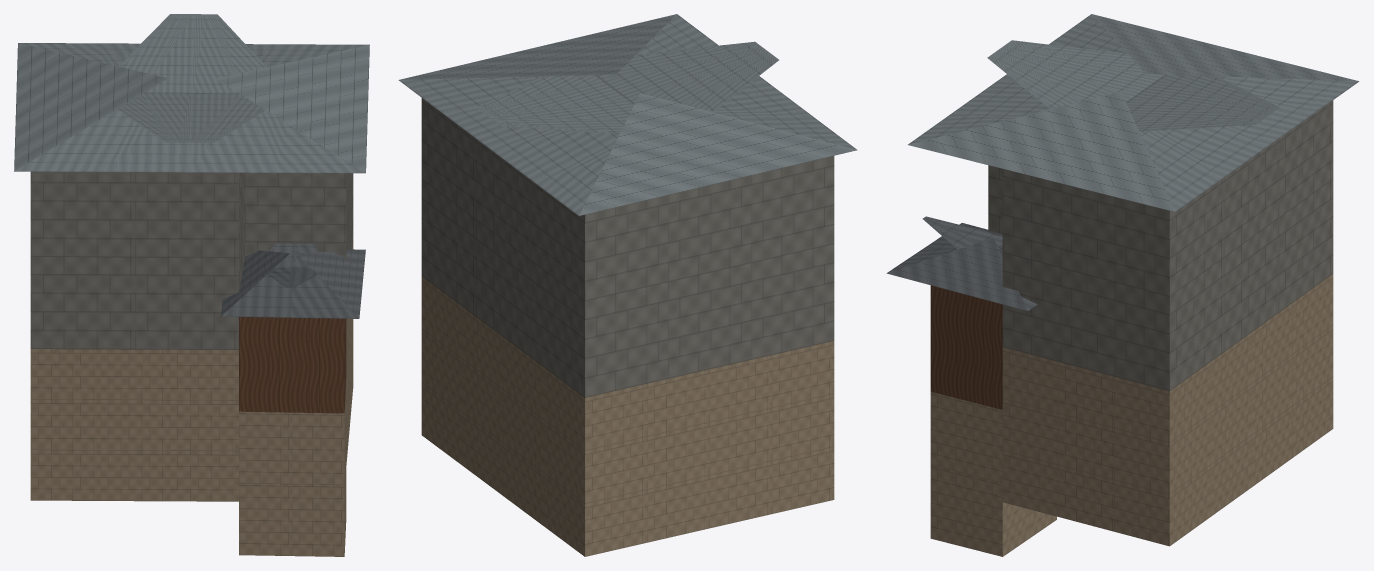
File: bld_c9_16_447.gltf
The picture shows the model from 3 angles, left to right: view 1: azimuth 30°, elevation 25°; view 2: azimuth 150°, elevation 25°; view 3: azimuth 270°, elevation 25°; orthographic projection. The views are drawn at different scales.
Visible parts, largest first — view 1: bld_c9_16_447; view 2: bld_c9_16_447; view 3: bld_c9_16_447.
Part boxes in pixels (bbox=[...]): bld_c9_16_447: bbox=[14, 14, 369, 556]; bld_c9_16_447: bbox=[398, 14, 857, 556]; bld_c9_16_447: bbox=[886, 14, 1358, 556].
Size of the model in its own units: 13.97 by 14.1 by 14.1.
Materials: 5 (5 with a texture image).
